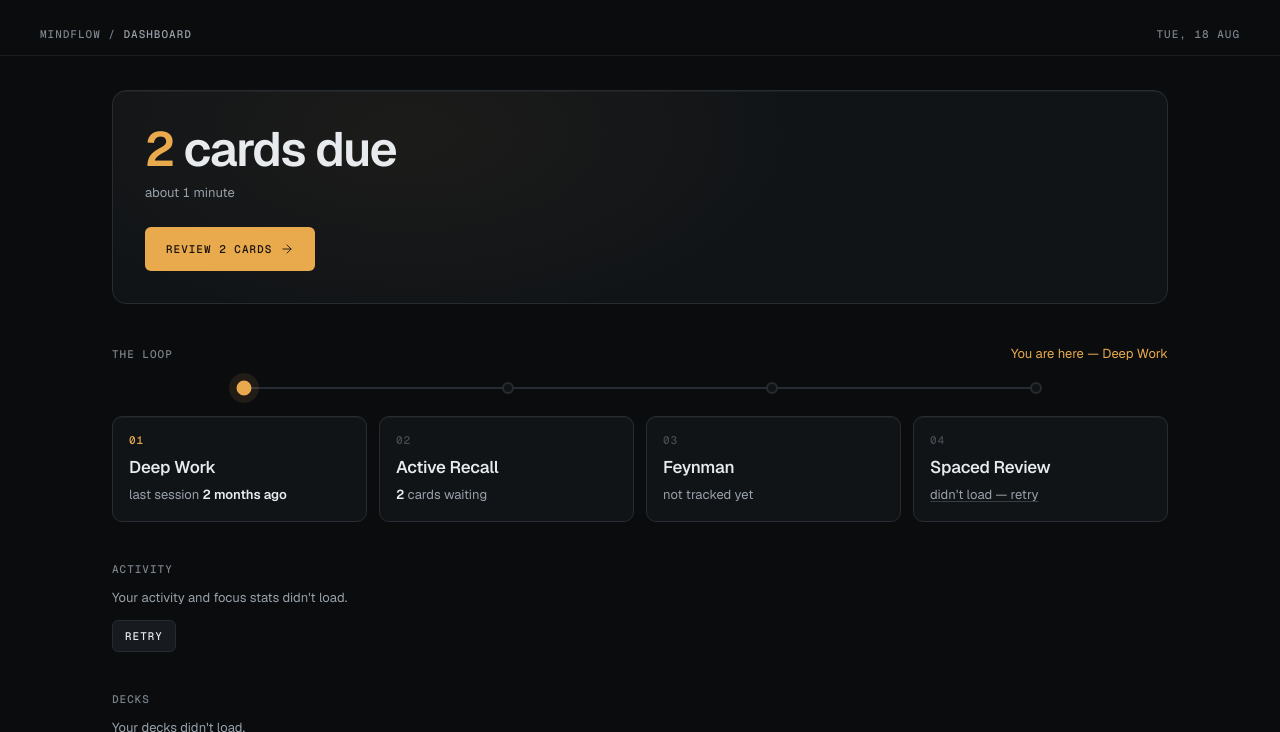
Test case: Dashboard (zone architecture) › partial failure: failed zones name themselves; zones whose queries succeeded still render
Expected: the heading "2 cards due" is shown, [145,118,396,180]
Expected: the text "Your activity and focus stats didn't load." is shown, [112,589,347,606]
Click the button "Retry".
click(144, 636)  # box [112,620,176,652]
(page scrolled)
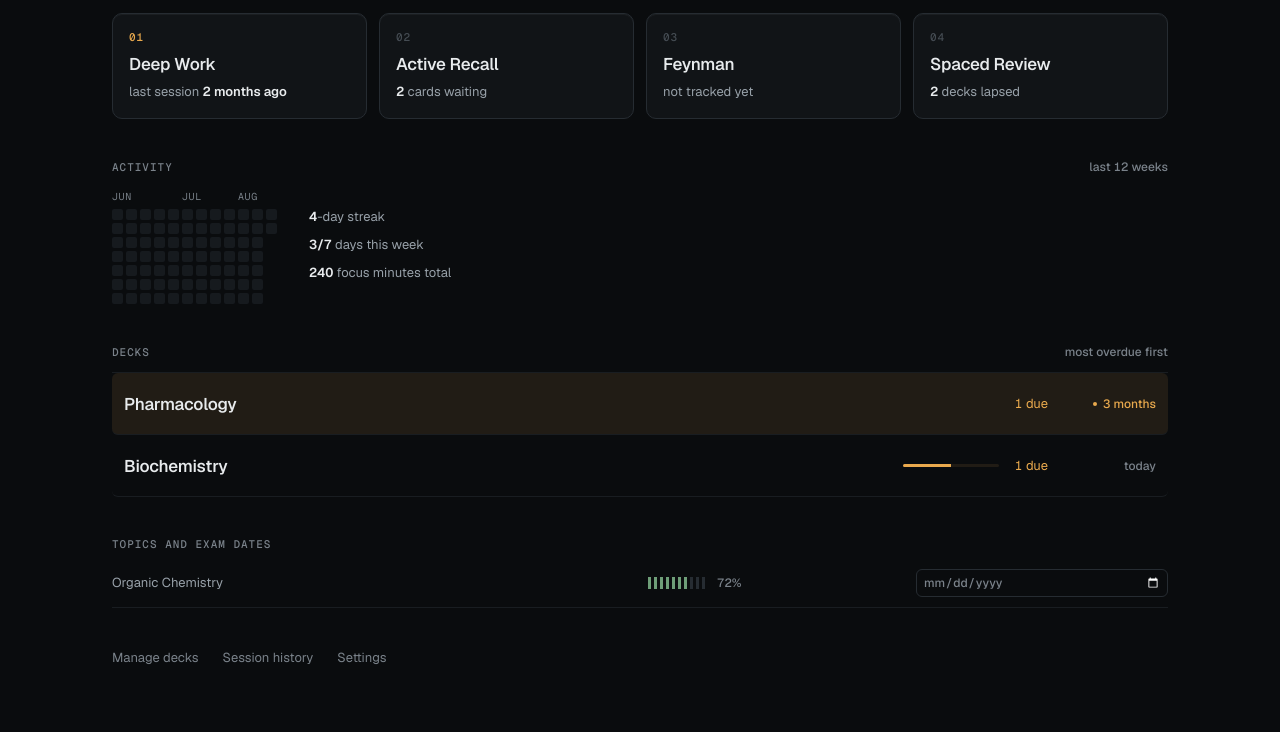
Expected: the button "Pharmacology 1 due 3 months" is shown, [112,373,1168,435]
Expected: the button "didn't load" is gone
